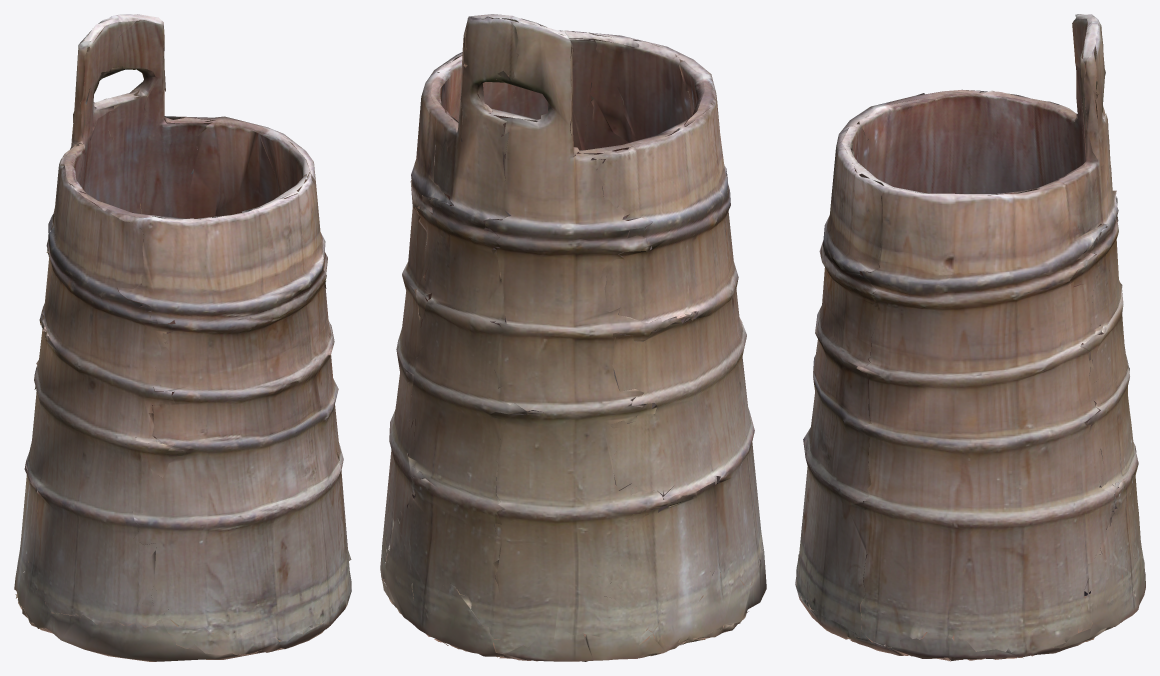
File: vat_wood.glb
The picture shows the model from 3 angles, left to right: view 1: azimuth 30°, elevation 25°; view 2: azimuth 150°, elevation 25°; view 3: azimuth 270°, elevation 25°; orthographic projection. The views are drawn at different scales.
Visible parts, largest first — view 1: Object_2; view 2: Object_2; view 3: Object_2.
Boxes of the visible parts, <box> form: Object_2: <box>14,14,351,661</box>; Object_2: <box>380,14,766,661</box>; Object_2: <box>795,14,1145,661</box>.
Size of the model in its own units: 23.48 by 41.63 by 23.28.
Materials: 1 (1 with a texture image).
